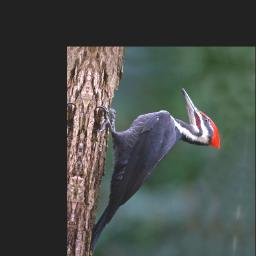Woodpecker: (77, 78, 226, 256)
